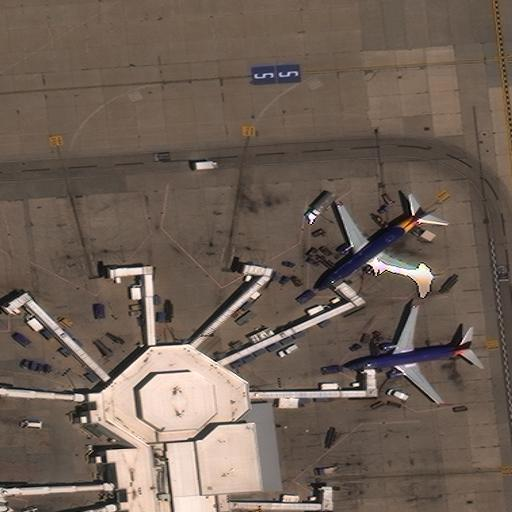Medium Civil Transport: (346, 307, 472, 403), (317, 207, 440, 290)
